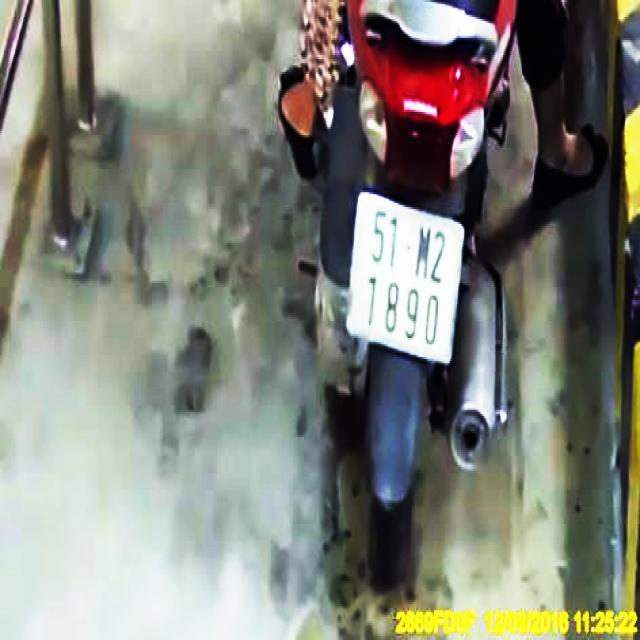license_plate: (349, 193, 470, 361)
